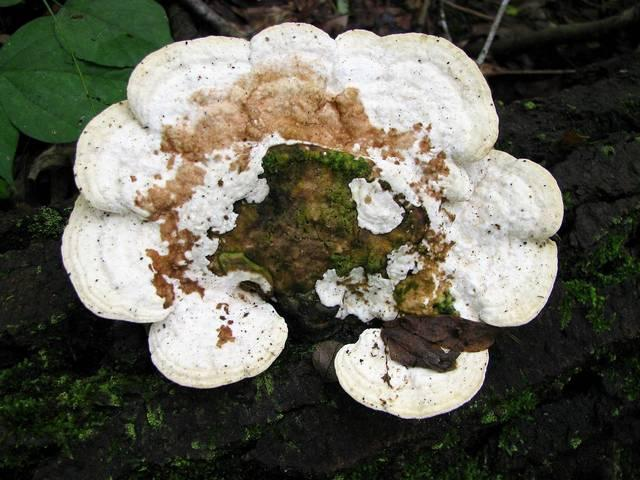poisonous_mushroom: (59, 20, 565, 419)
